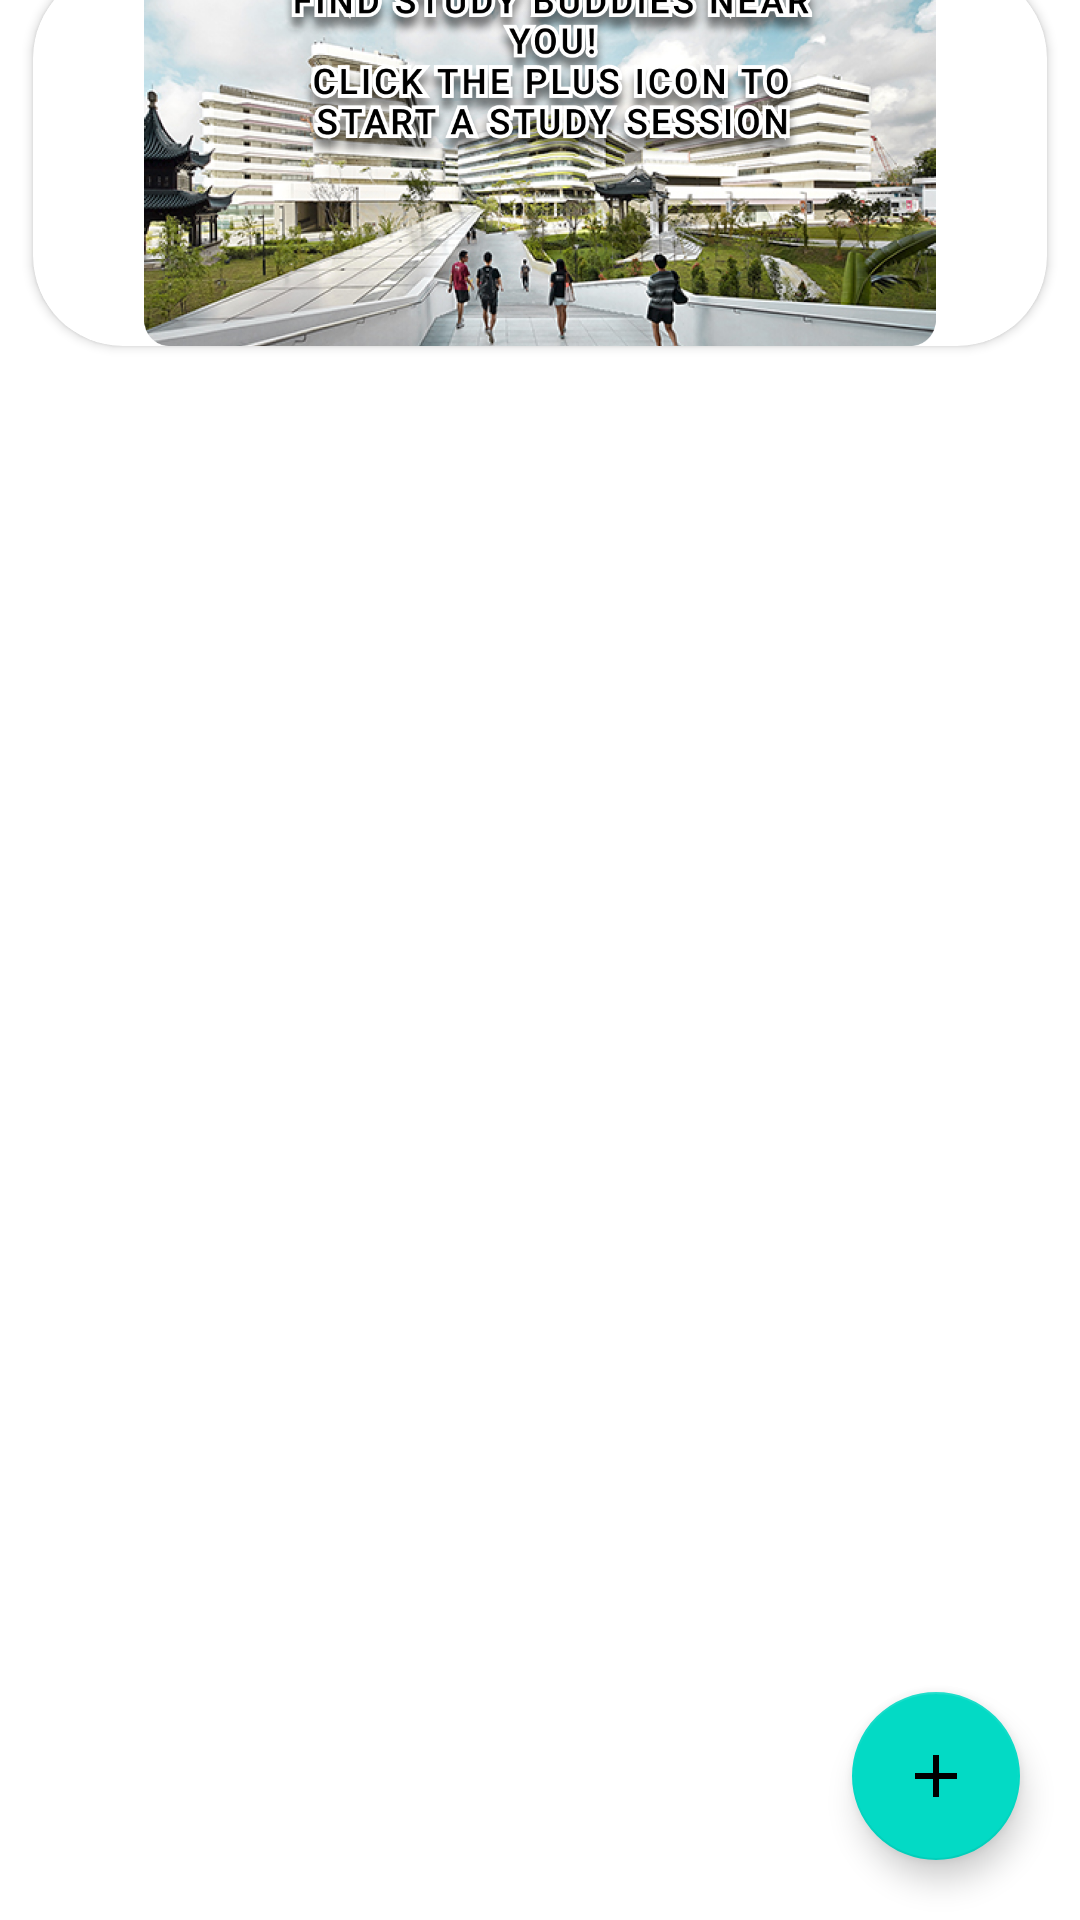

Point at icon controls on the screen. Image size 1080×1920, points as (x,y).
create an event: (936,1776)
